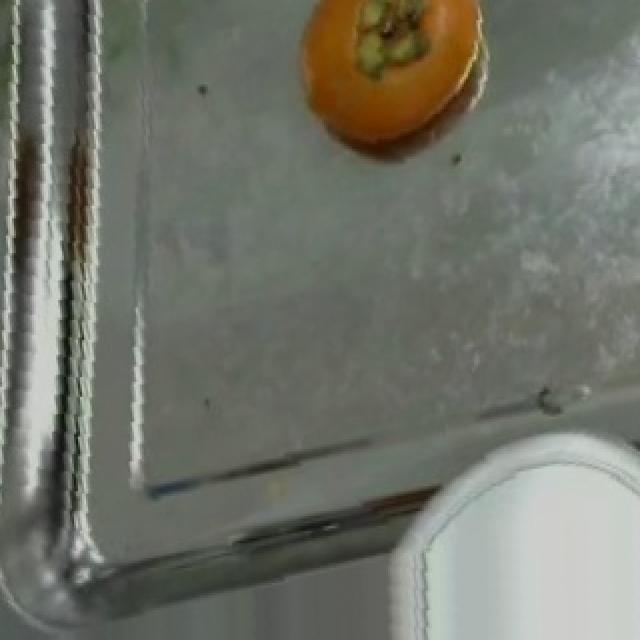Fruit: (270, 3, 506, 171)
